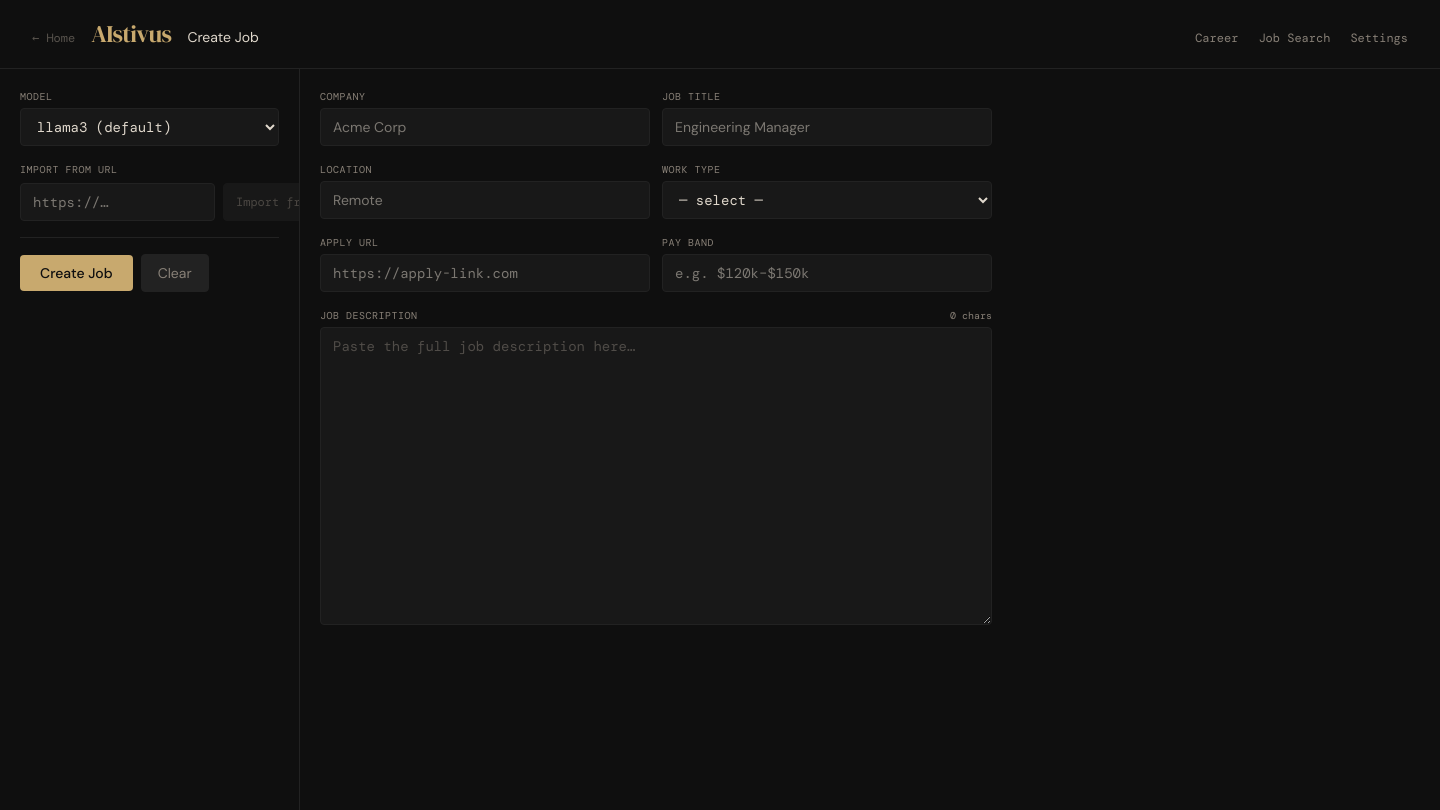
CreateJob › populates fields after successful URL scrape
The width and height of the screenshot is (1440, 810).
Type "https://example.com/job" into the field with placeholder "https://…".
click(118, 202); type("https://example.com/job")  # box [20,183,215,221]
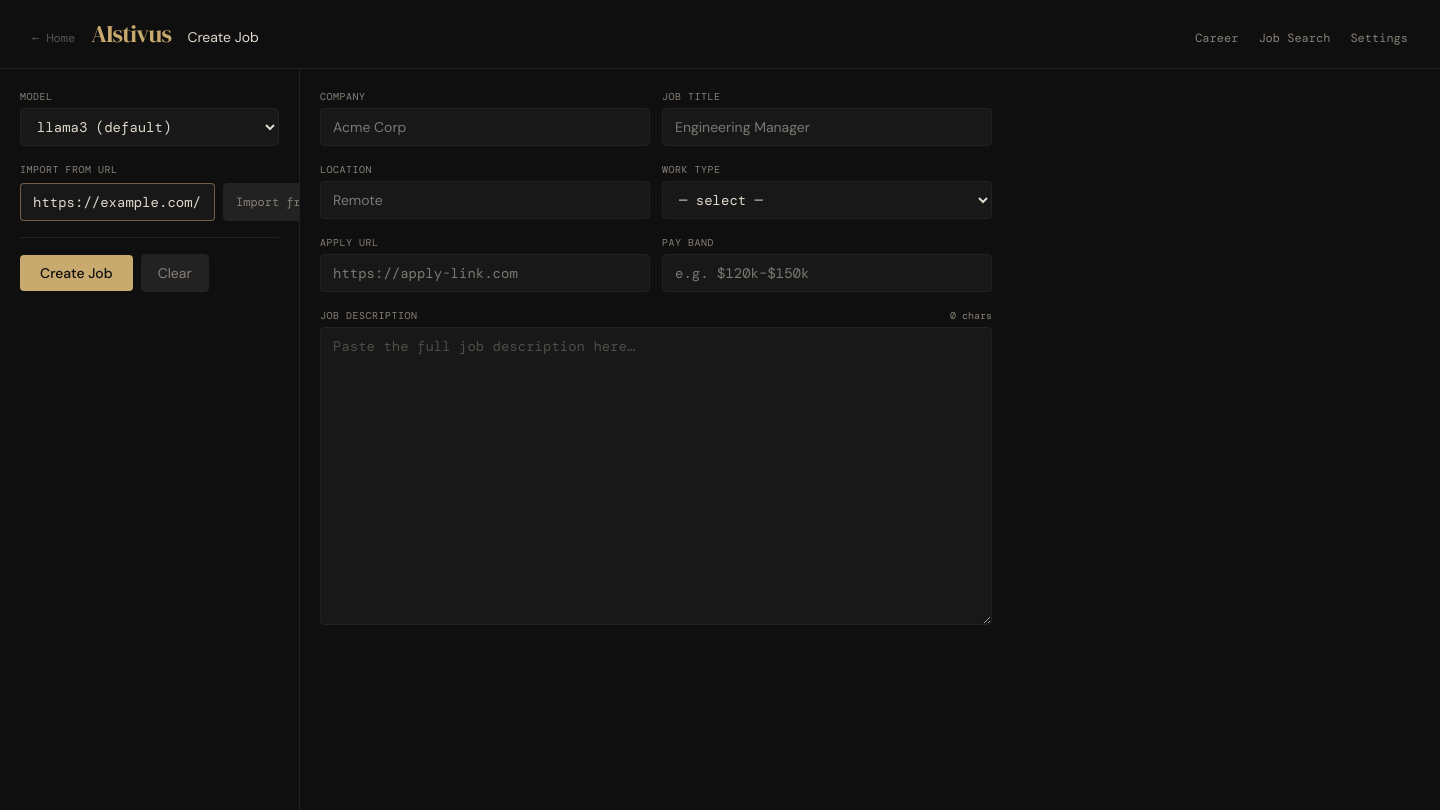
Click the button "Import from URL".
click(290, 202)  # box [223,183,357,221]
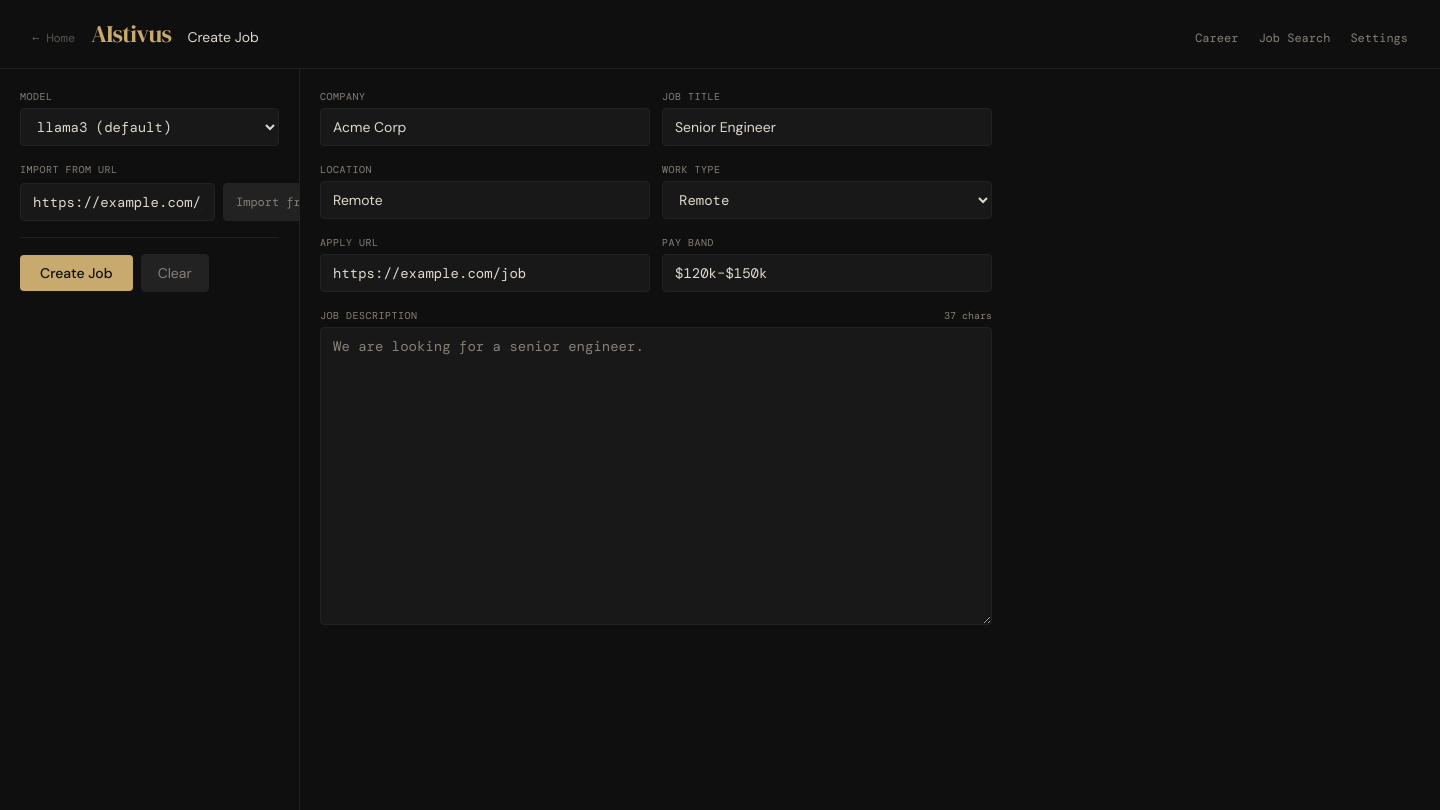
Expected: the field with placeholder "Acme Corp" below "Company" holds "Acme Corp", [320,108,650,146]
Expected: the field with placeholder "Engineering Manager" below "Job Title" holds "Senior Engineer", [662,108,992,146]
